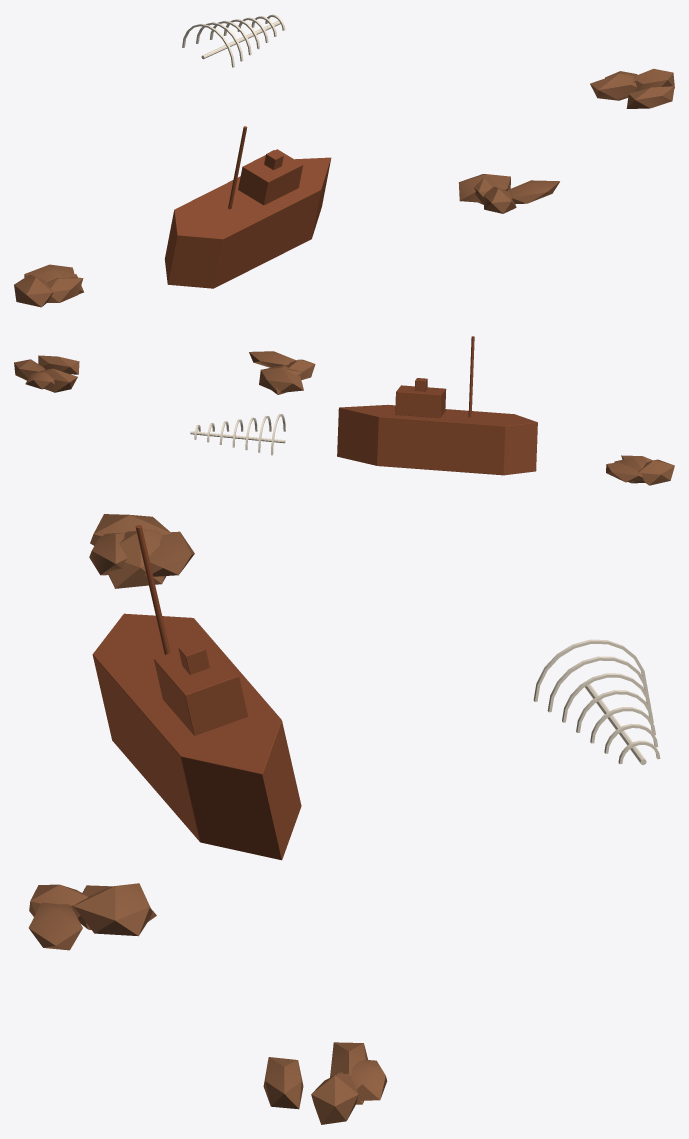
File: z1-sable.glb
3 renders of one model, top to bottom at view 1: azimuth 30°, elevation 25°; view 2: azimuth 150°, elevation 25°; view 3: azimuth 270°, elevation 25°, orthographic. The views are drawn at different scales.
Parts seen in each view (by area): view 1: Z1_Props_Wreck, Z1_Props_Reef_2, Z1_Props_Reef_3, Z1_Props_Reef_1, Z1_Props_WhaleBones; view 2: Z1_Props_Wreck, Z1_Props_Reef_2, Z1_Props_Reef_3, Z1_Props_Reef_1, Z1_Props_WhaleBones; view 3: Z1_Props_Wreck, Z1_Props_Reef_2, Z1_Props_Reef_3, Z1_Props_Reef_1, Z1_Props_WhaleBones.
Part boxes in pixels (x1,y1,x2,y2): Z1_Props_Wreck: (164,126,331,288); Z1_Props_Reef_2: (458,174,559,213); Z1_Props_Reef_3: (590,68,674,108); Z1_Props_Reef_1: (14,264,83,307); Z1_Props_WhaleBones: (182,14,285,67); Z1_Props_Wreck: (337,336,537,475); Z1_Props_Reef_2: (249,351,315,394); Z1_Props_Reef_3: (14,355,79,392); Z1_Props_Reef_1: (606,455,674,485); Z1_Props_WhaleBones: (190,414,285,455); Z1_Props_Wreck: (92,525,301,860); Z1_Props_Reef_2: (28,883,156,950); Z1_Props_Reef_3: (263,1042,387,1124); Z1_Props_Reef_1: (89,514,194,588); Z1_Props_WhaleBones: (533,639,660,764).
Size of the model in its own units: 75.9 by 14.83 by 34.31.
